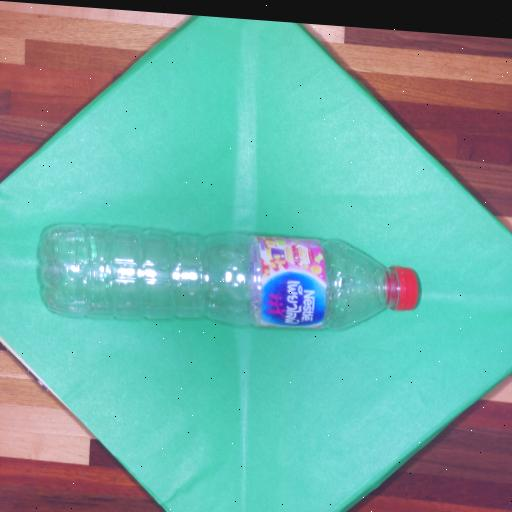bottle: (42, 224, 418, 328)
